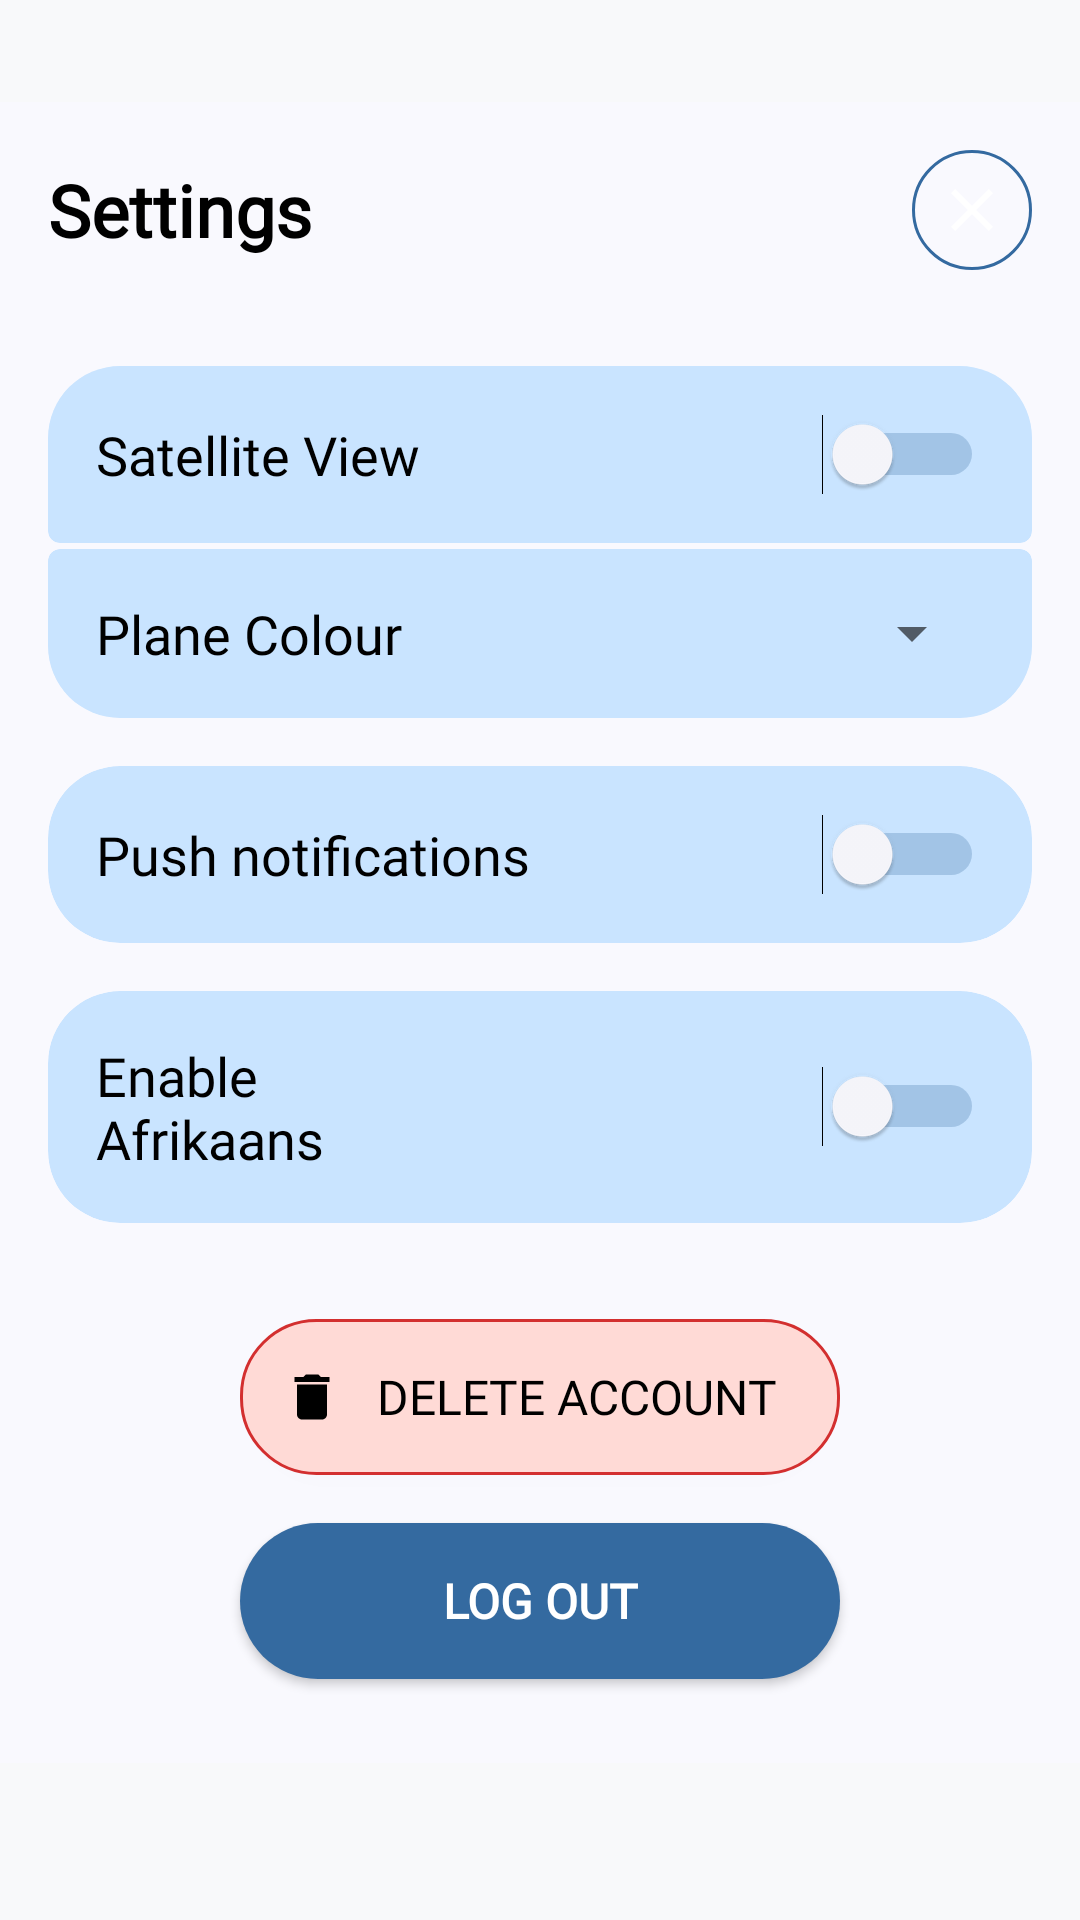

Where icons sit on this 1080×1920 app screen, as (x1, y1, x2, y2):
close: (912, 150, 1032, 270)
